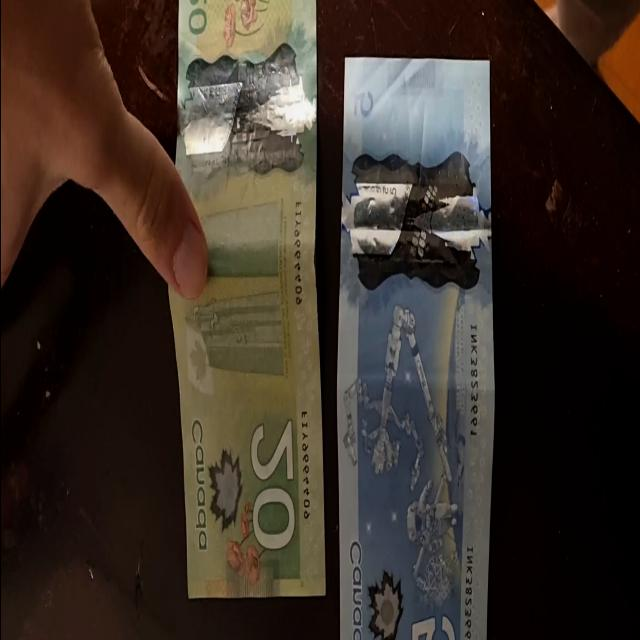20 cad: (175, 0, 324, 597)
5 cad: (338, 58, 491, 640)
